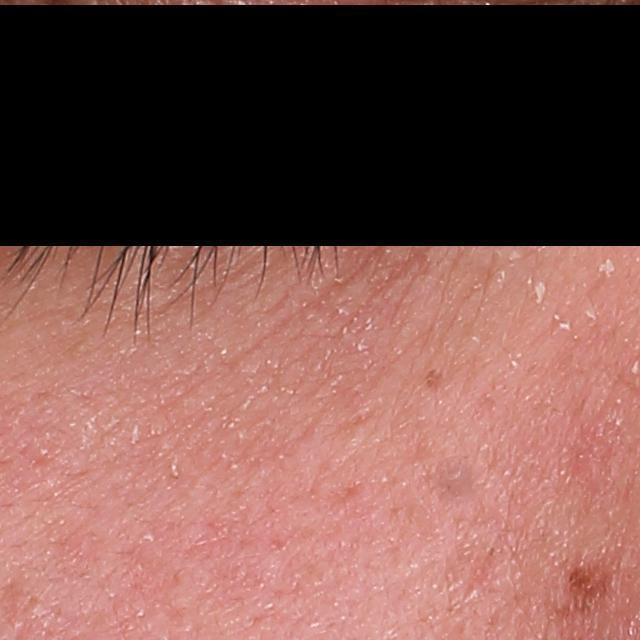melasma: (546, 560, 614, 637), (428, 452, 484, 502), (422, 369, 442, 397)
